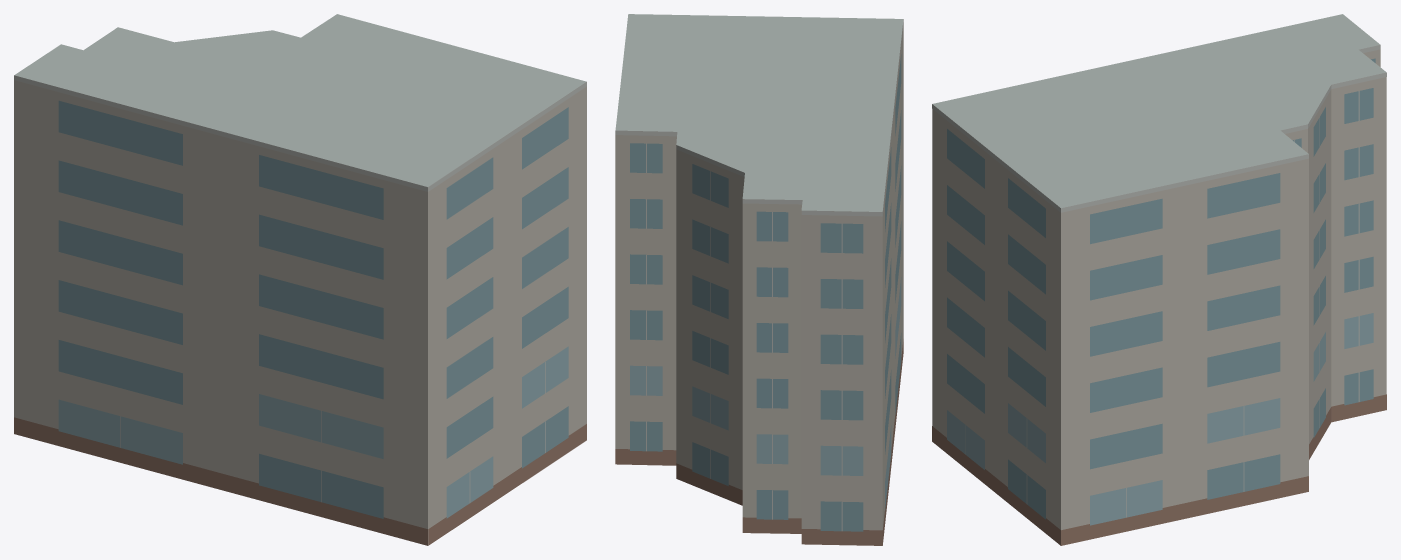
File: survey-upis-33039566.glb
3 renders of one model, left to right at view 1: azimuth 30°, elevation 25°; view 2: azimuth 150°, elevation 25°; view 3: azimuth 270°, elevation 25°, orthographic. The views are drawn at different scales.
Parts seen in each view (by area): view 1: survey-upis-33039566.tmp; view 2: survey-upis-33039566.tmp; view 3: survey-upis-33039566.tmp.
Boxes of the visible parts, x1=… form: survey-upis-33039566.tmp: x1=14, y1=14, x2=586, y2=545; survey-upis-33039566.tmp: x1=615, y1=14, x2=903, y2=545; survey-upis-33039566.tmp: x1=932, y1=14, x2=1386, y2=545.
Bounding box in the file's own units: 22.6 × 18.3 × 22.35.
